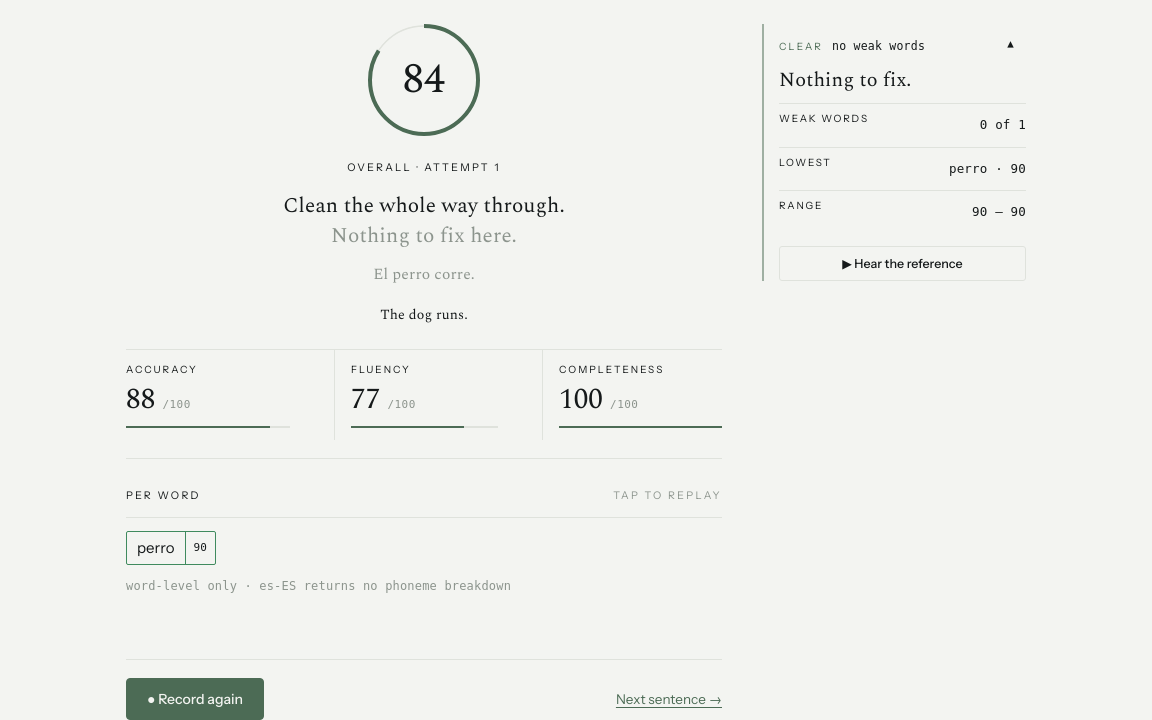
Test case: ShadowingDrill › Next sentence picks a new sentence excluding the current one and clears the result
(page scrolled)
Expected: the text "84" is shown, [403, 48, 445, 111]
Click the button "Next sentence →".
click(669, 699)  # box [616, 685, 722, 712]
(page scrolled)
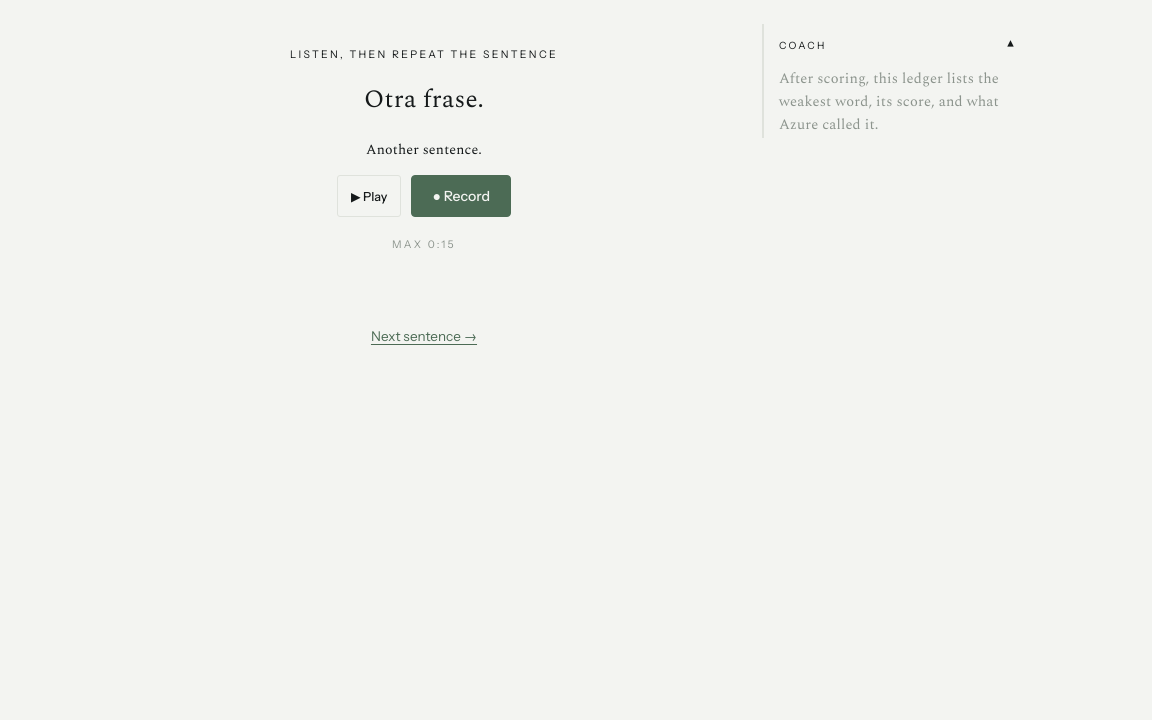
Expected: the text "Otra frase." is shown, [364, 83, 484, 118]
Expected: the text "Another sentence." is shown, [366, 139, 482, 160]
Expected: the text "84" is gone
